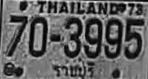0: (28, 16, 47, 56)
3: (62, 16, 82, 57)
5: (124, 18, 143, 58)
7: (7, 14, 27, 56)
9: (104, 17, 122, 58), (84, 17, 102, 57)
RBR: (51, 61, 96, 79)
